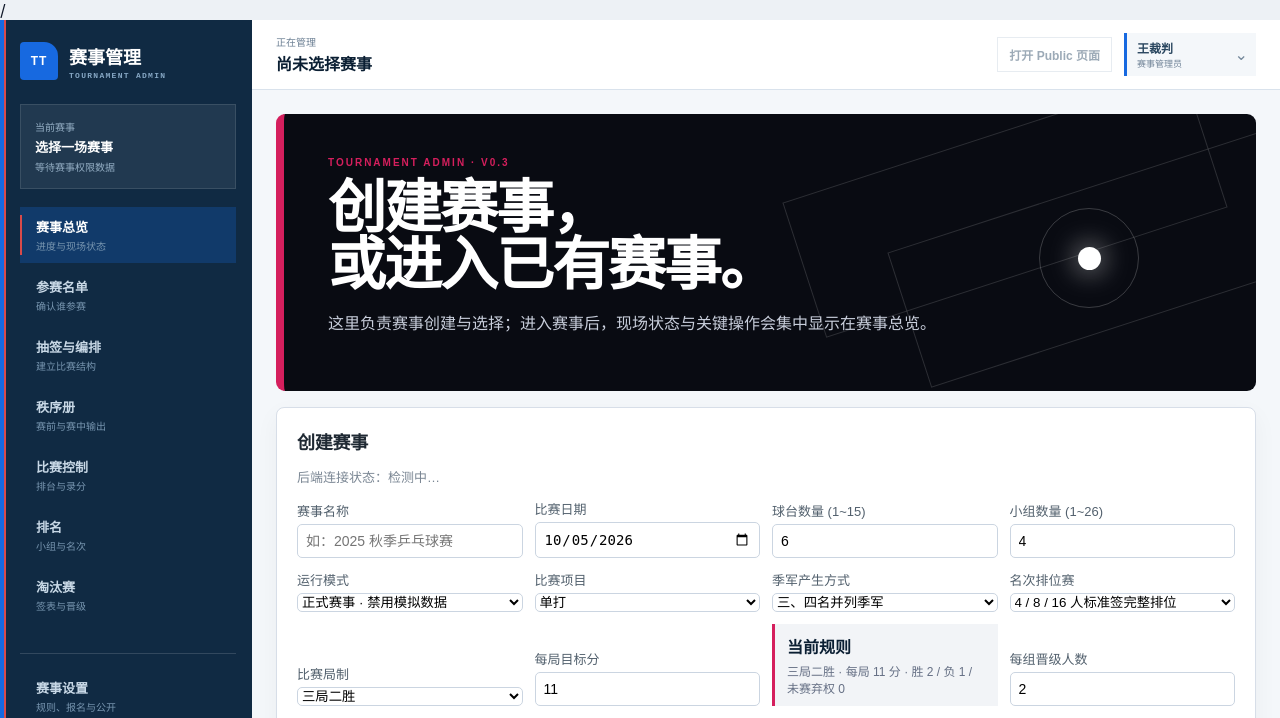
认证路由与 Auth Shell › Admin Shell 显示用户态，退出后清态并进入登录页
Expected: the text "赛事管理员" is shown, [1137,59,1182,69]
Click the text "王裁判" at [1155, 49], box [1137,42,1173,56]
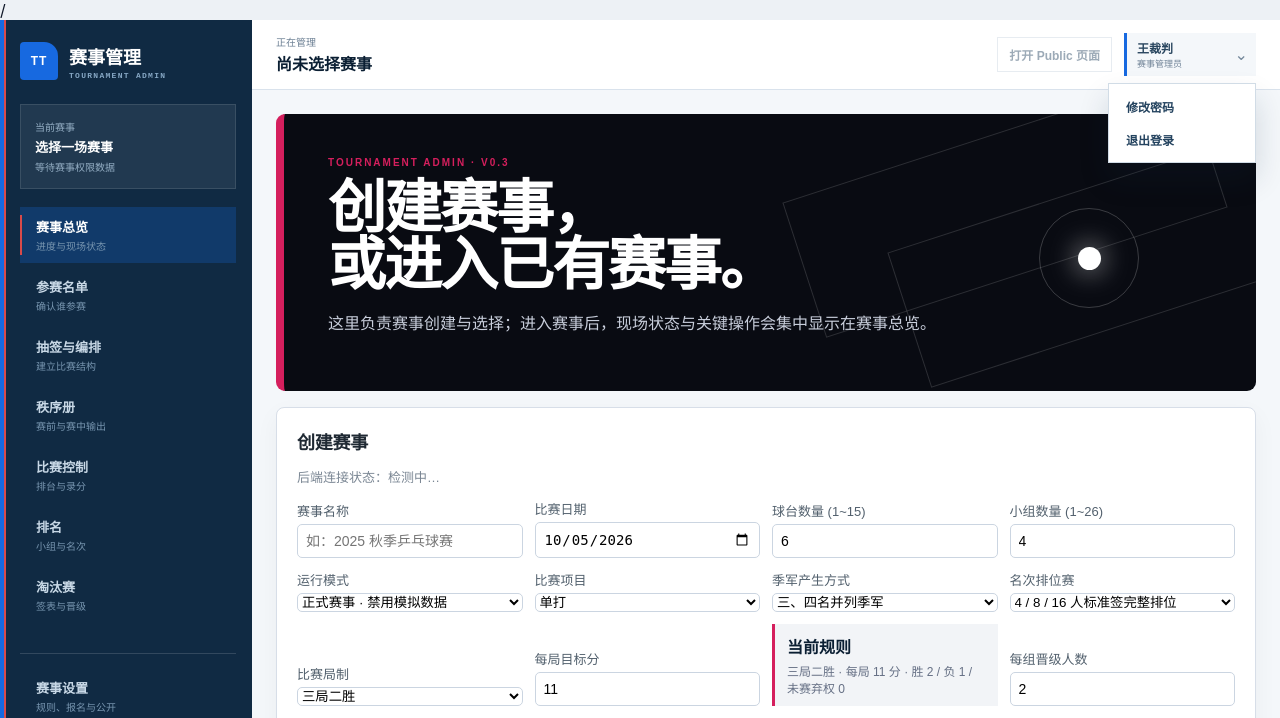
Click the button "退出登录" at [1182, 140], box [1115,123,1249,156]
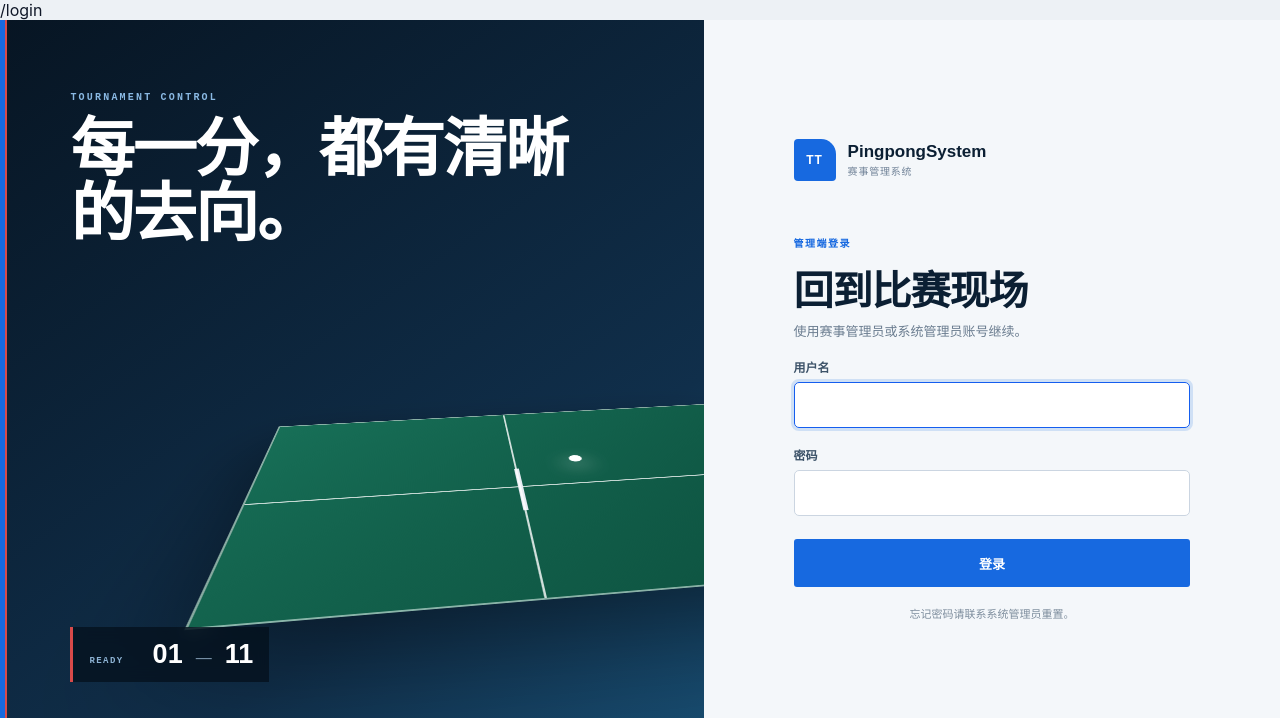
Now the text "管理端登录" is shown, box [794,239,851,250]
